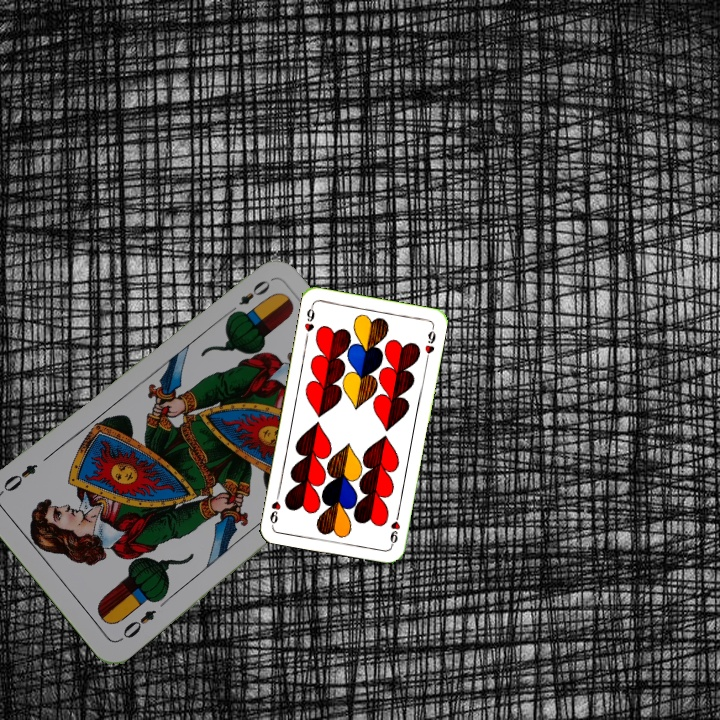EO: (223, 275, 273, 318), (115, 605, 159, 644)
H9: (300, 301, 317, 341), (386, 508, 402, 548)
